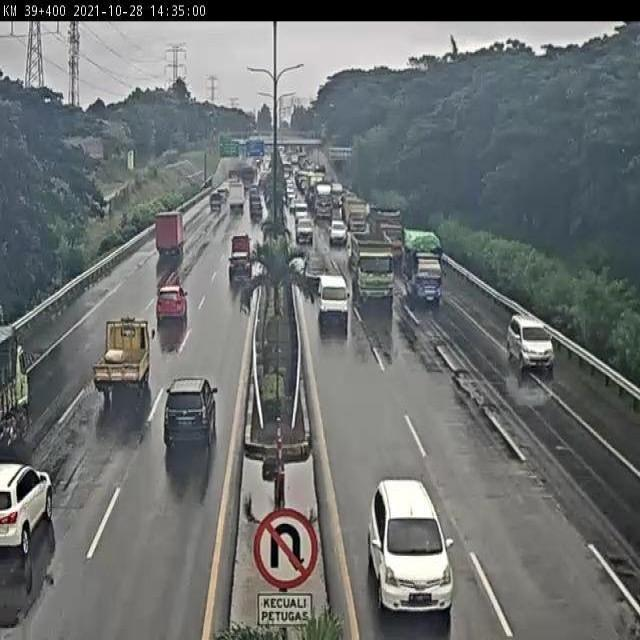big truck: (0, 326, 33, 450), (348, 236, 398, 308)
car: (356, 468, 470, 624), (0, 459, 62, 576), (162, 368, 220, 449), (502, 307, 559, 380), (316, 275, 354, 329), (152, 286, 187, 322), (291, 211, 320, 248), (303, 255, 329, 288), (328, 215, 351, 248), (229, 233, 257, 256), (232, 256, 257, 281)
small truck: (95, 316, 151, 396), (402, 229, 447, 316), (153, 209, 190, 264)
